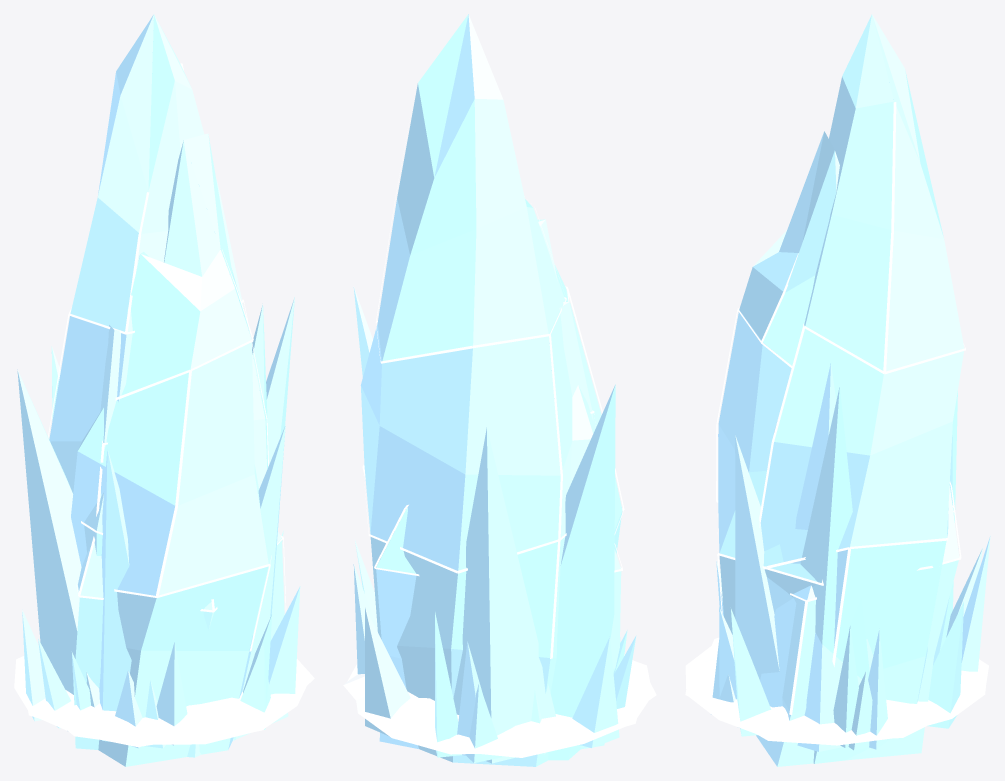
Rendered from pillars.glb.
The picture shows the model from 3 angles, left to right: view 1: azimuth 30°, elevation 25°; view 2: azimuth 150°, elevation 25°; view 3: azimuth 270°, elevation 25°; orthographic projection. The views are drawn at different scales.
Parts seen in each view (by area): view 1: IcePillar_A_Chunk_03, IcePillar_B_Shards, IcePillar_A_Chunk_07, IcePillar_A_Chunk_00, IcePillar_A_Chunk_05, IcePillar_C_Chunk_05, IcePillar_C_Shards, IcePillar_C_Chunk_04, IcePillar_C_Chunk_06, IcePillar_A_Shards, IcePillar_B_Chunk_01, IcePillar_C_Base (+8 smaller); view 2: IcePillar_C_Chunk_05, IcePillar_C_Chunk_03, IcePillar_B_Shards, IcePillar_C_Shards, IcePillar_C_Chunk_01, IcePillar_A_Shards, IcePillar_B_Base, IcePillar_B_Chunk_00, IcePillar_C_Chunk_04, IcePillar_C_Cracks, IcePillar_A_Chunk_05, IcePillar_A_Base (+5 smaller); view 3: IcePillar_C_Chunk_03, IcePillar_C_Chunk_06, IcePillar_C_Chunk_05, IcePillar_B_Shards, IcePillar_C_Chunk_01, IcePillar_C_Shards, IcePillar_A_Shards, IcePillar_A_Chunk_03, IcePillar_A_Chunk_06, IcePillar_B_Chunk_00, IcePillar_A_Chunk_07, IcePillar_C_Base (+9 smaller).
Part boxes in pixels (x1,y1,x2,y2): IcePillar_A_Chunk_03: (159, 342, 269, 595); IcePillar_B_Shards: (17, 304, 300, 745); IcePillar_A_Chunk_07: (121, 140, 251, 395); IcePillar_A_Chunk_00: (98, 566, 267, 766); IcePillar_A_Chunk_05: (71, 372, 188, 595); IcePillar_C_Chunk_05: (70, 14, 153, 331); IcePillar_C_Shards: (51, 297, 294, 748); IcePillar_C_Chunk_04: (49, 303, 267, 532); IcePillar_C_Chunk_06: (127, 14, 242, 331); IcePillar_A_Shards: (38, 425, 285, 748); IcePillar_B_Chunk_01: (73, 538, 288, 757); IcePillar_C_Base: (68, 678, 306, 744); IcePillar_C_Chunk_05: (377, 14, 564, 360); IcePillar_C_Chunk_03: (360, 324, 560, 570); IcePillar_B_Shards: (353, 384, 619, 757); IcePillar_C_Shards: (353, 286, 627, 763); IcePillar_C_Chunk_01: (370, 537, 557, 766); IcePillar_A_Shards: (354, 539, 636, 763); IcePillar_B_Base: (347, 660, 650, 757); IcePillar_B_Chunk_00: (376, 569, 418, 748); IcePillar_C_Chunk_04: (549, 299, 572, 537); IcePillar_C_Cracks: (362, 122, 566, 658); IcePillar_A_Chunk_05: (566, 290, 622, 529); IcePillar_A_Base: (356, 692, 636, 752); IcePillar_C_Chunk_03: (760, 328, 963, 561); IcePillar_C_Chunk_06: (804, 14, 894, 370); IcePillar_C_Chunk_05: (872, 15, 964, 371); IcePillar_B_Shards: (716, 363, 990, 751); IcePillar_C_Chunk_01: (814, 540, 949, 763); IcePillar_C_Shards: (719, 387, 982, 750); IcePillar_A_Shards: (711, 434, 963, 747); IcePillar_A_Chunk_03: (718, 310, 817, 581); IcePillar_A_Chunk_06: (763, 131, 839, 365); IcePillar_B_Chunk_00: (777, 560, 958, 766); IcePillar_A_Chunk_07: (739, 132, 823, 339); IcePillar_C_Base: (685, 644, 988, 738).
Bounding box in the file's own units: 5.8 × 14.3 × 5.58.
